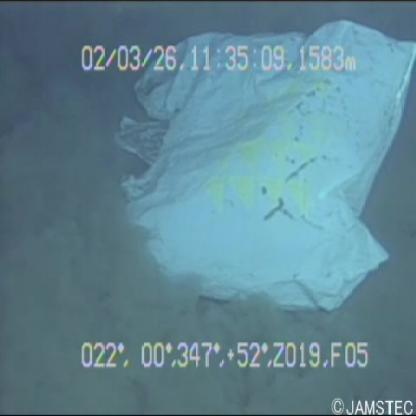Rác: (112, 12, 416, 332)
